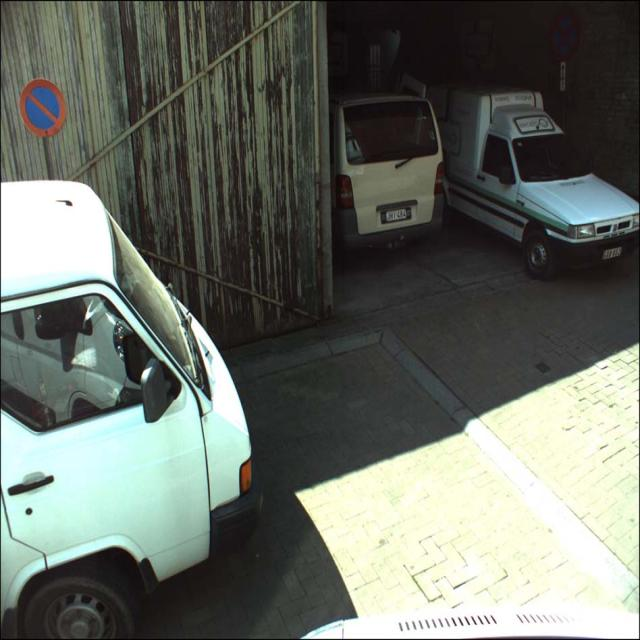parkyasak: (19, 79, 68, 139)
